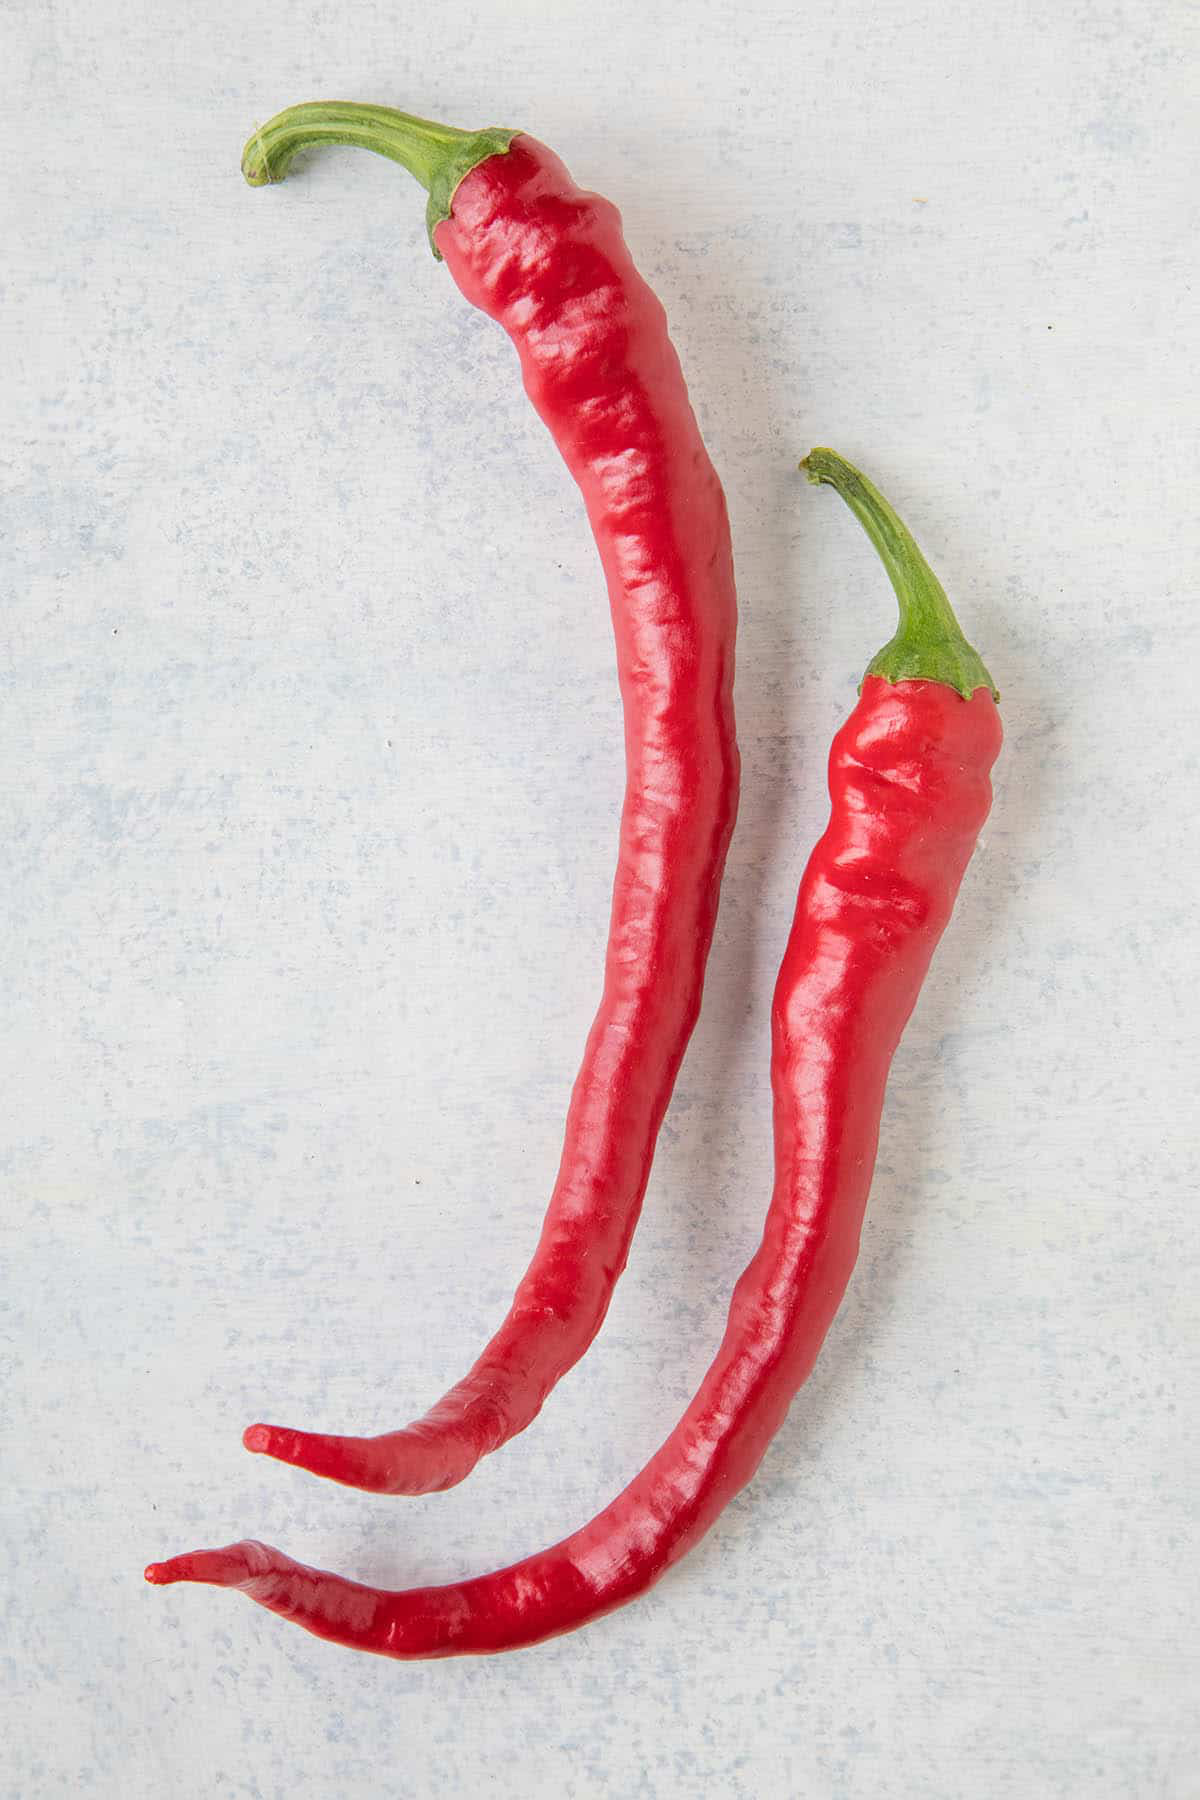Cabai: (121, 82, 1120, 1702)
